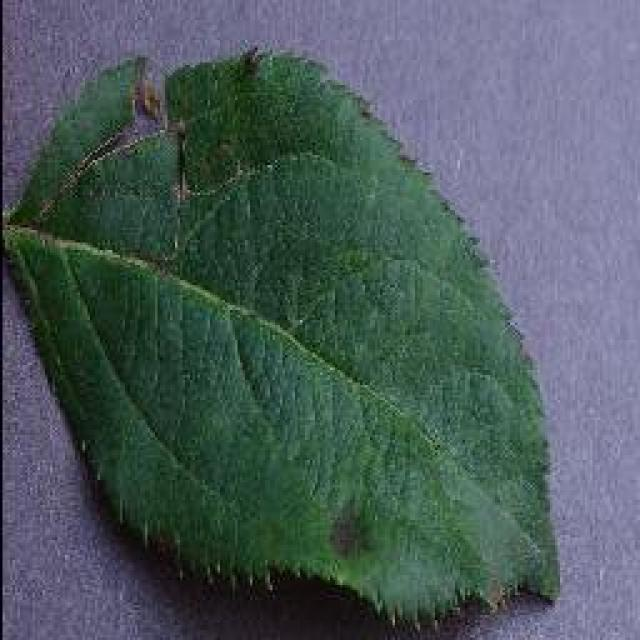apple scab disease: (0, 42, 562, 629)
